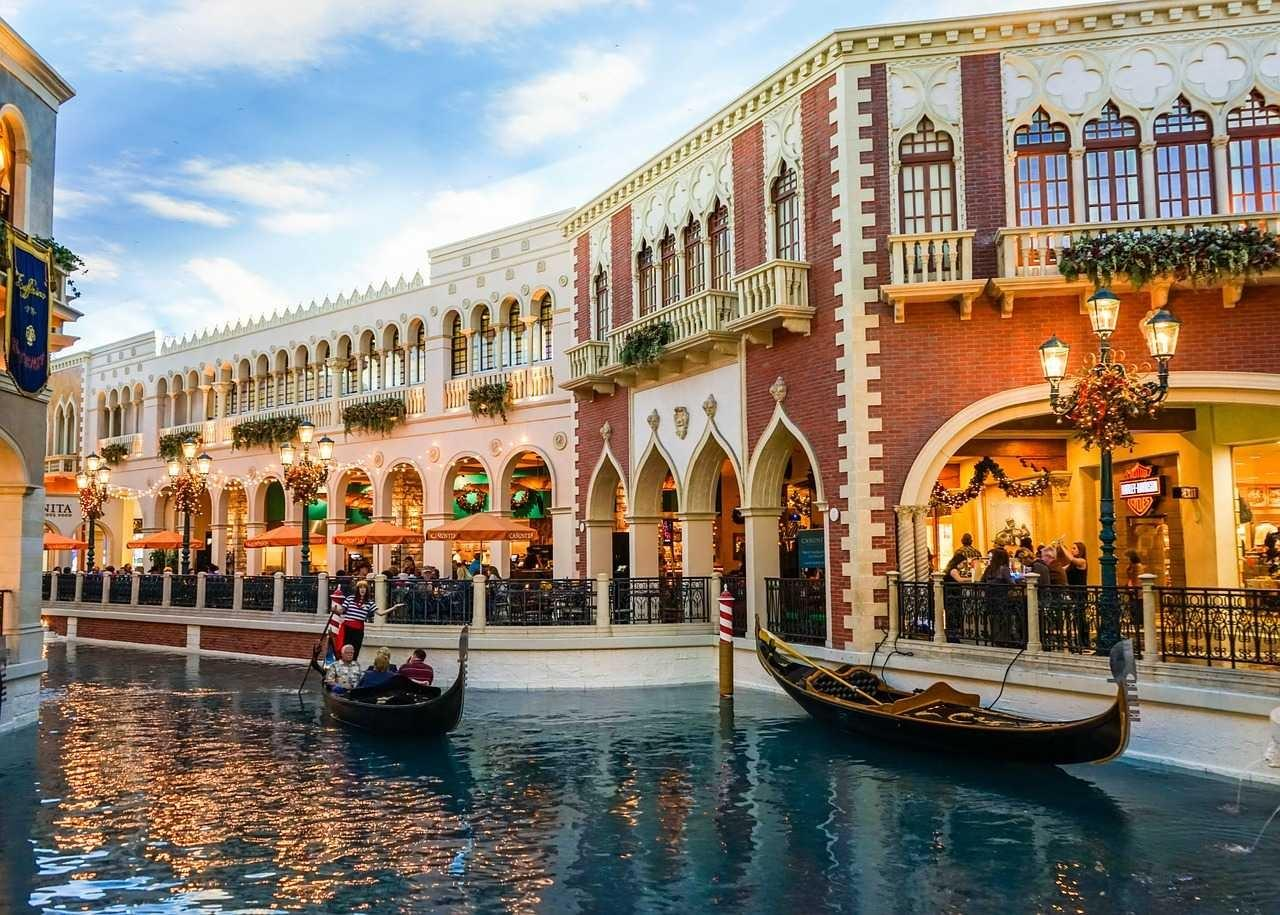kayak: (755, 623, 1138, 769), (322, 631, 469, 739)
